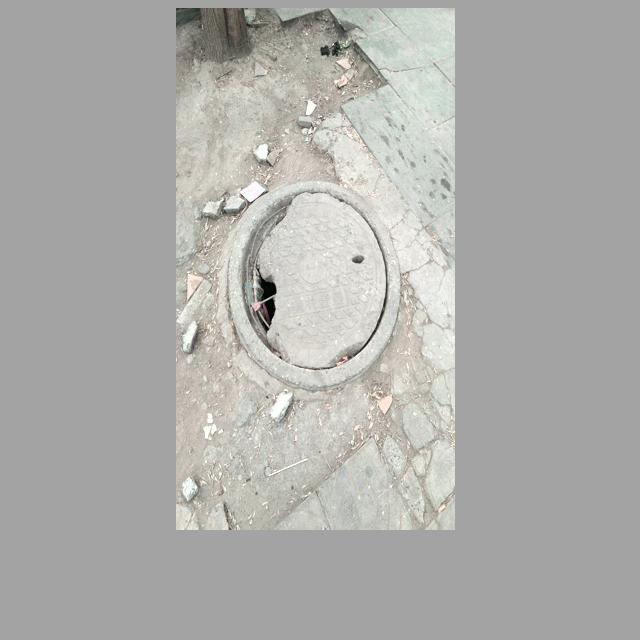broke: (228, 180, 402, 393)
